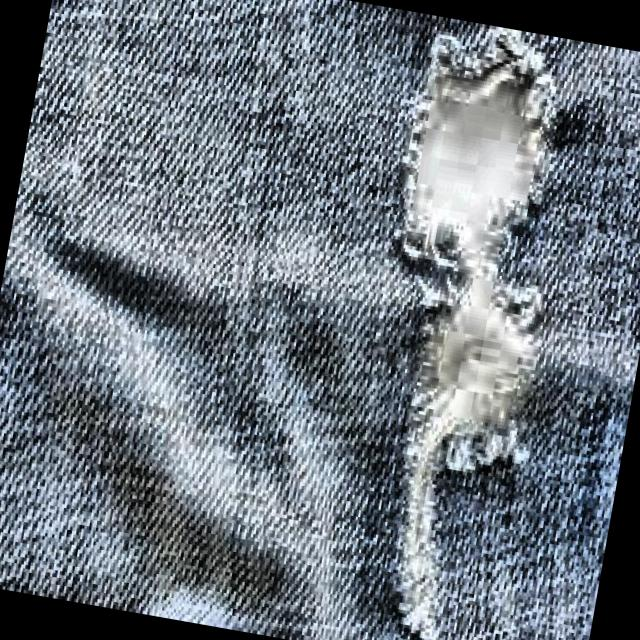cut: (300, 11, 631, 640)
